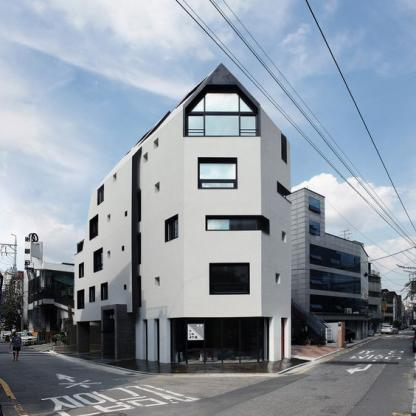Building Outline: (74, 63, 293, 364)
Facade: (182, 63, 262, 364)
Glass Wall: (188, 319, 258, 364)
Window: (185, 84, 258, 136), (198, 157, 238, 189), (210, 263, 250, 294), (211, 265, 249, 292), (205, 216, 261, 231), (205, 116, 238, 136), (200, 163, 236, 179), (205, 94, 238, 111), (207, 219, 261, 229), (240, 116, 256, 136), (188, 116, 204, 136), (191, 97, 204, 111), (240, 97, 252, 111), (202, 183, 234, 188)
